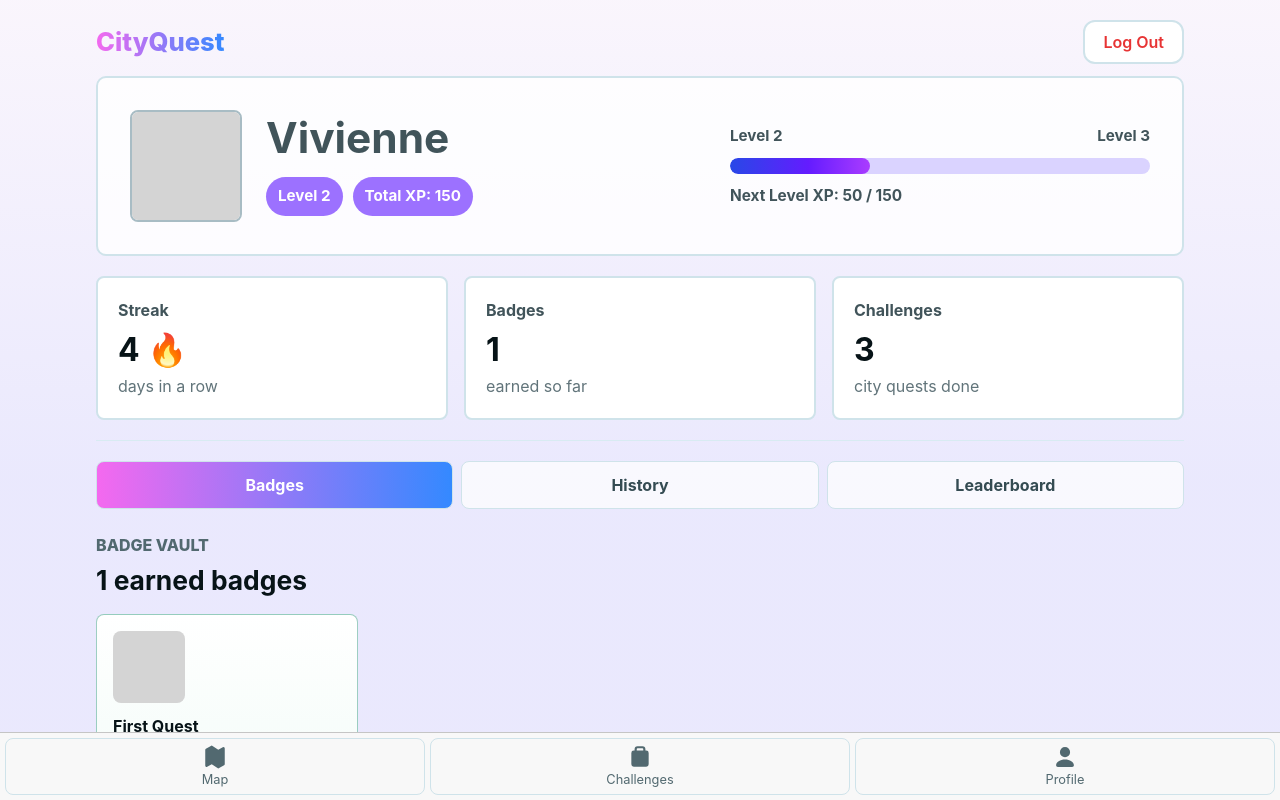
it: ProfilePage › shows a leaderboard error message when leaderboard loading fails
Expected: the heading "Vivienne" is shown, [266,116,473,161]
Click the tab "Leaderboard": (1005, 485) [827,461,1184,509]
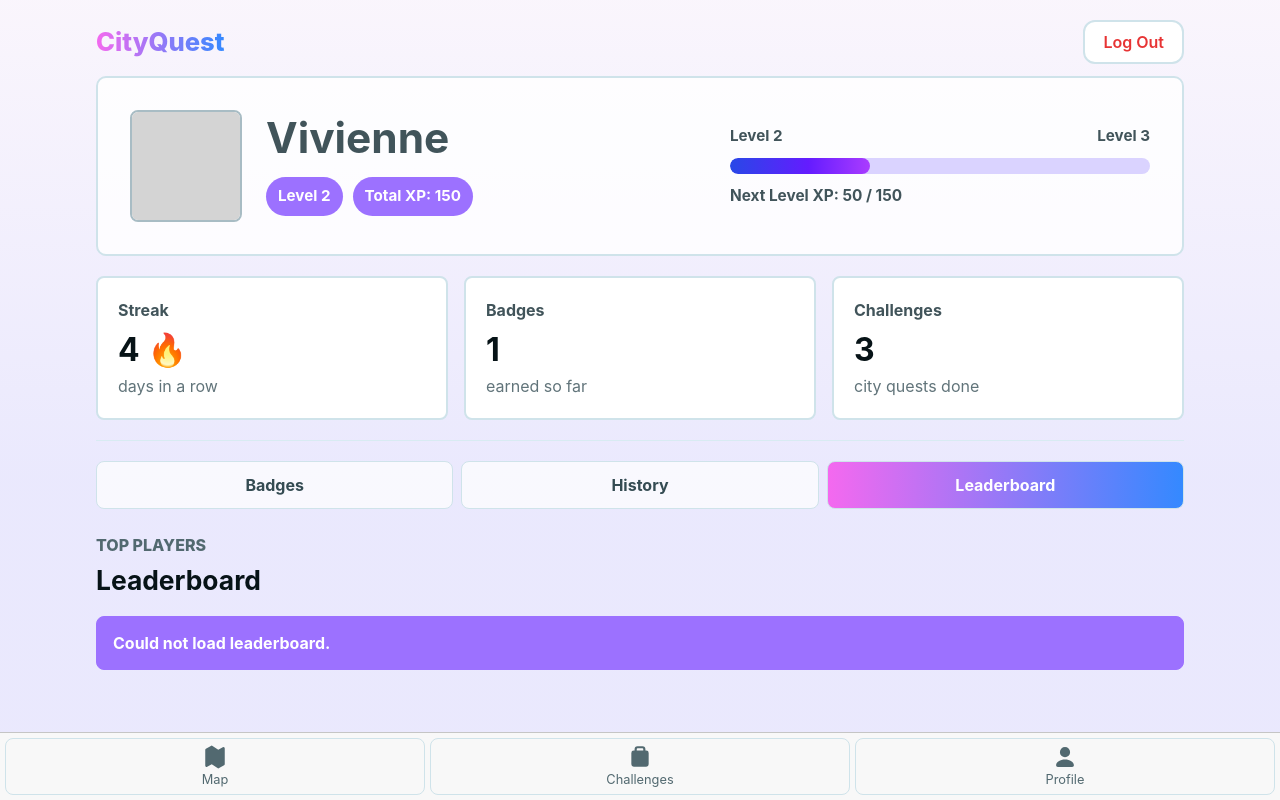
Result: the text "Could not load leaderboard." is shown at [96,616,1184,670]
